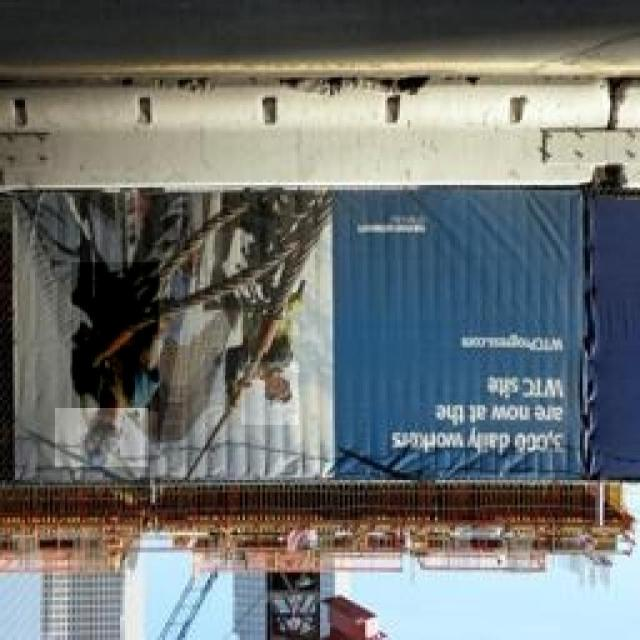Helmet: (72, 262, 158, 412), (218, 282, 298, 375), (55, 408, 149, 467), (242, 362, 298, 425)
